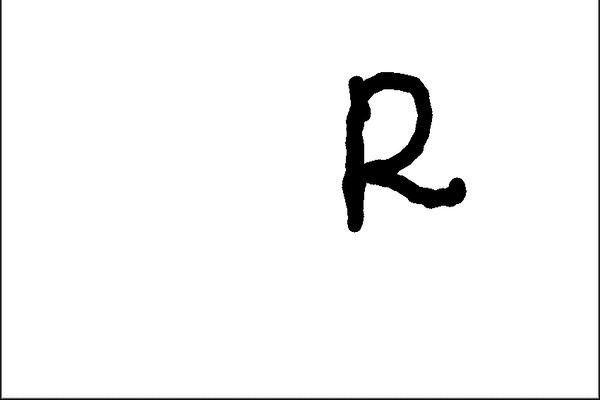R: (323, 60, 476, 235)
